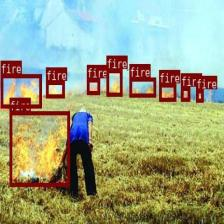fire: (9, 111, 69, 186), (0, 74, 41, 108), (130, 77, 156, 96), (106, 69, 122, 95), (46, 80, 64, 97), (159, 83, 175, 100), (87, 78, 99, 94), (180, 86, 190, 101), (196, 89, 203, 101)
